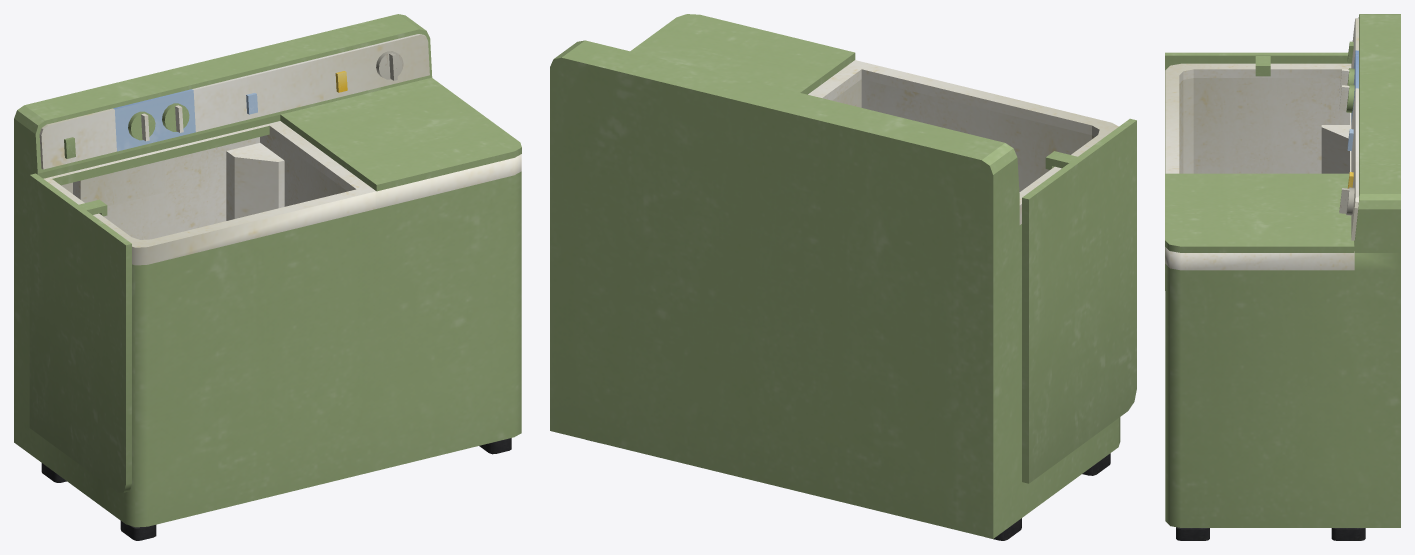
File: prop_washer01.fbx
The picture shows the model from 3 angles, left to right: view 1: azimuth 30°, elevation 25°; view 2: azimuth 150°, elevation 25°; view 3: azimuth 270°, elevation 25°; orthographic projection. The views are drawn at different scales.
Parts seen in each view (by area): view 1: prop_washer01; view 2: prop_washer01; view 3: prop_washer01.
Part boxes in pixels (<box>): prop_washer01: <box>14,14,521,540</box>; prop_washer01: <box>550,14,1136,540</box>; prop_washer01: <box>1165,14,1400,540</box>.
Size of the model in its own units: 1.3 by 1.09 by 0.6707.
